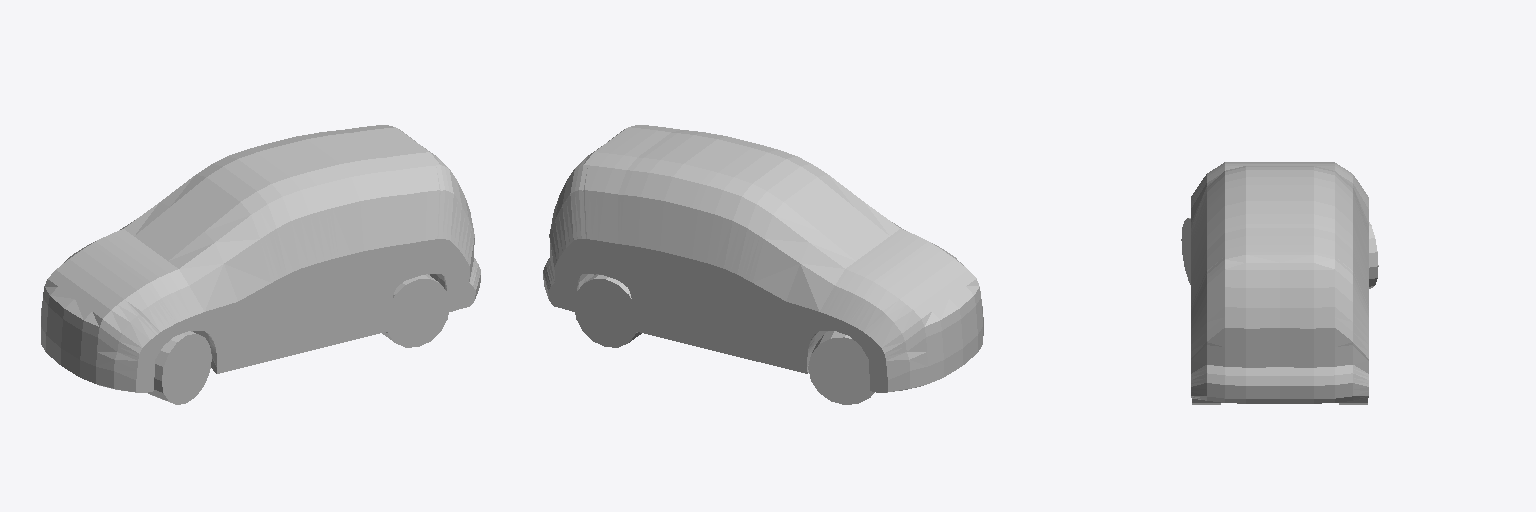
The model's file is carFixed.obj.
The picture shows the model from 3 angles: view 1: azimuth 30°, elevation 25°; view 2: azimuth 150°, elevation 25°; view 3: azimuth 270°, elevation 25°; orthographic projection.
Parts seen in each view (by area): view 1: 3d.svg; view 2: 3d.svg; view 3: 3d.svg.
Boxes of the visible parts, x1=… form: 3d.svg: x1=41, y1=125, x2=480, y2=404; 3d.svg: x1=543, y1=125, x2=983, y2=404; 3d.svg: x1=1181, y1=162, x2=1378, y2=404.
Bounding box in the file's own units: 1.07 × 0.4601 × 0.4676.